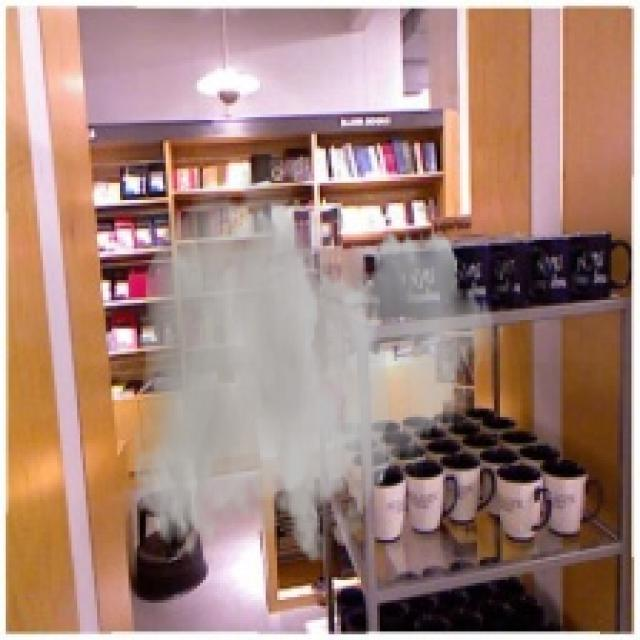Smoke: (131, 140, 506, 566)
